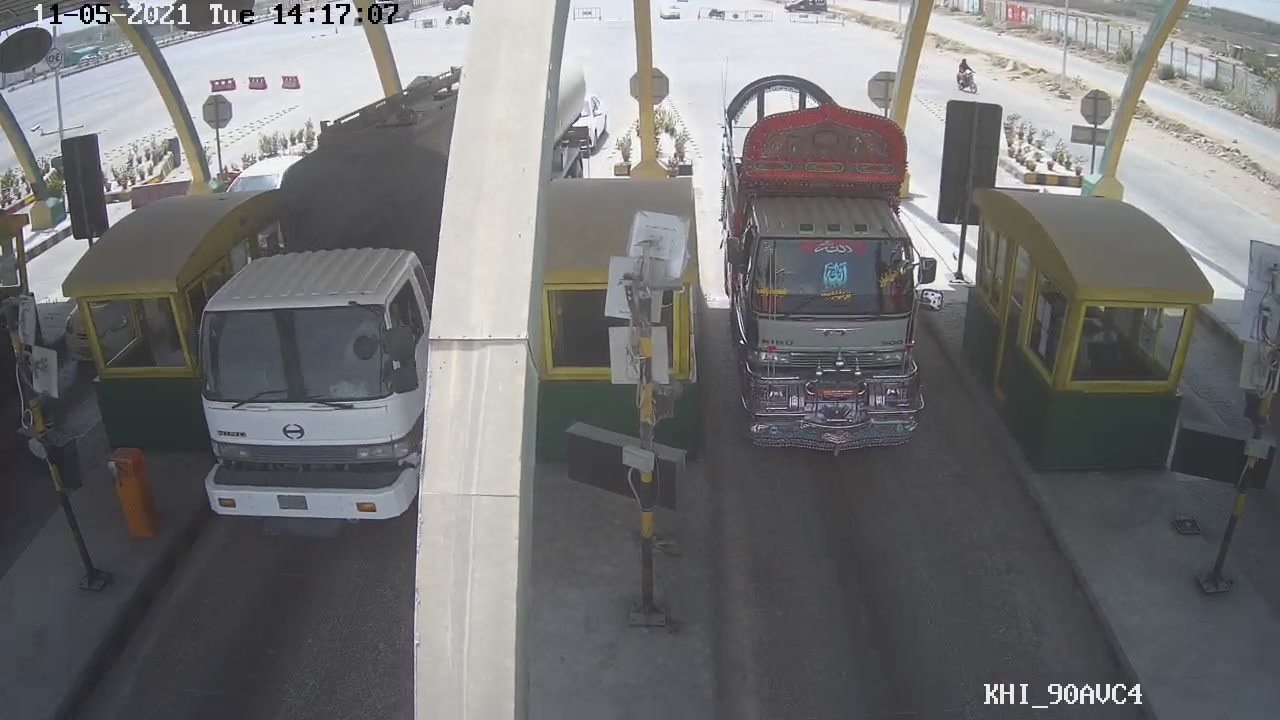F5: (715, 109, 938, 463)
